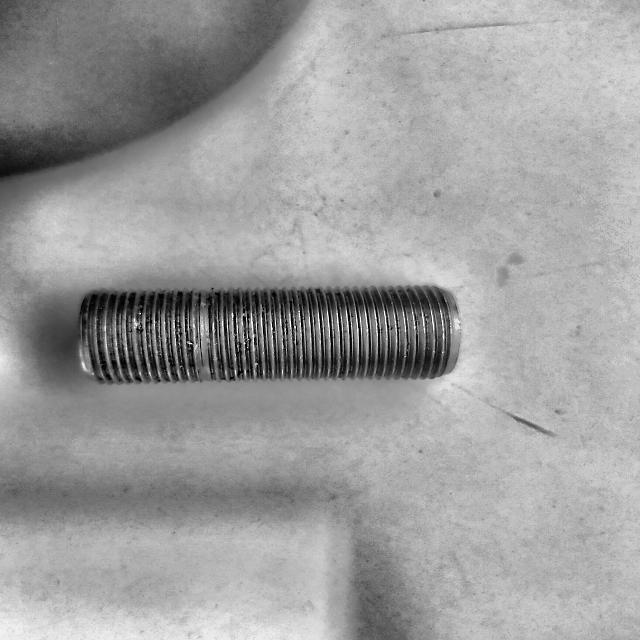Broken: (76, 284, 463, 387)
